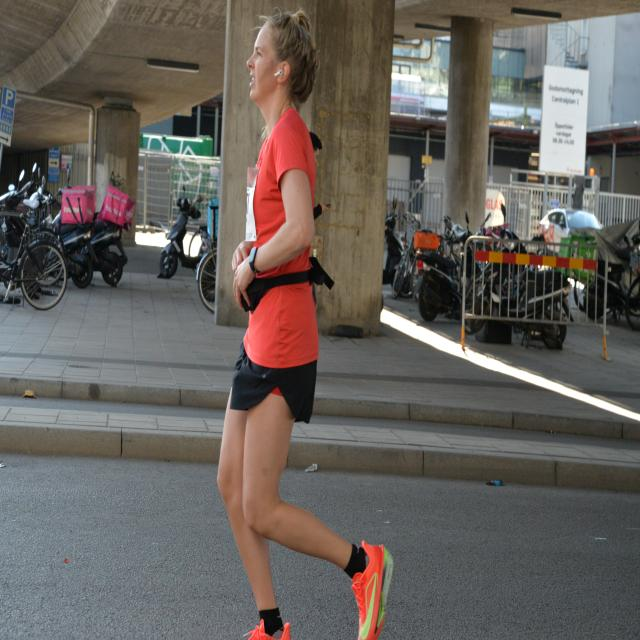runner-detect: (211, 3, 398, 637)
